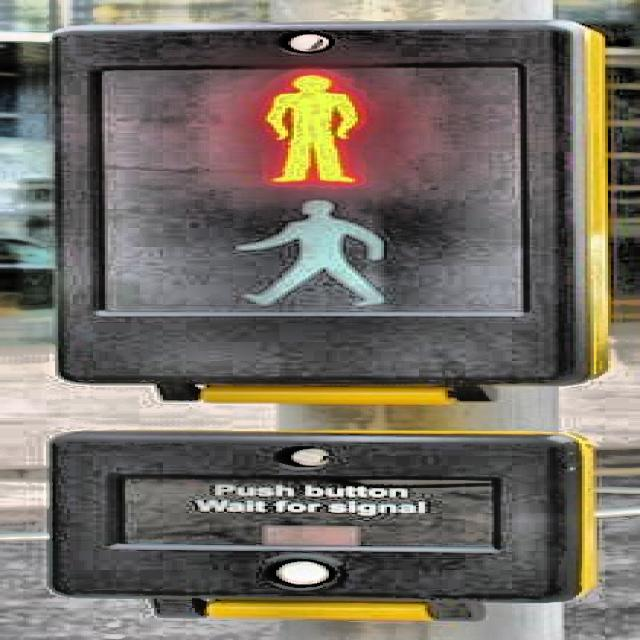red_light: (254, 71, 368, 186)
